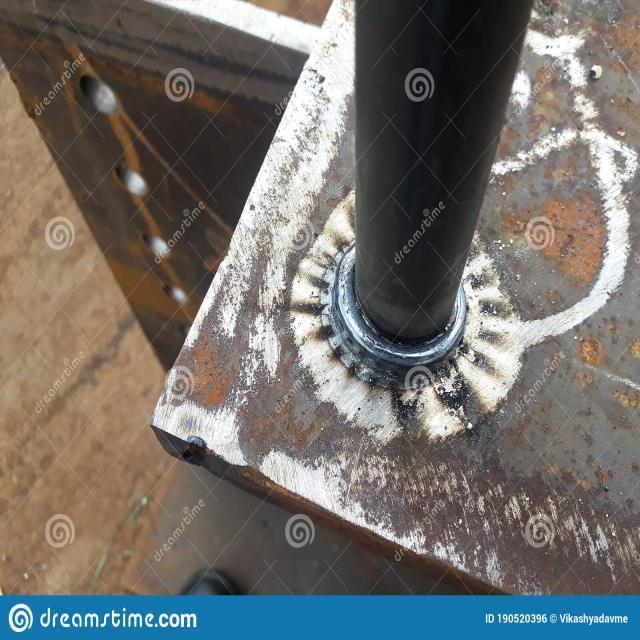Good Welding: (290, 192, 522, 443)
